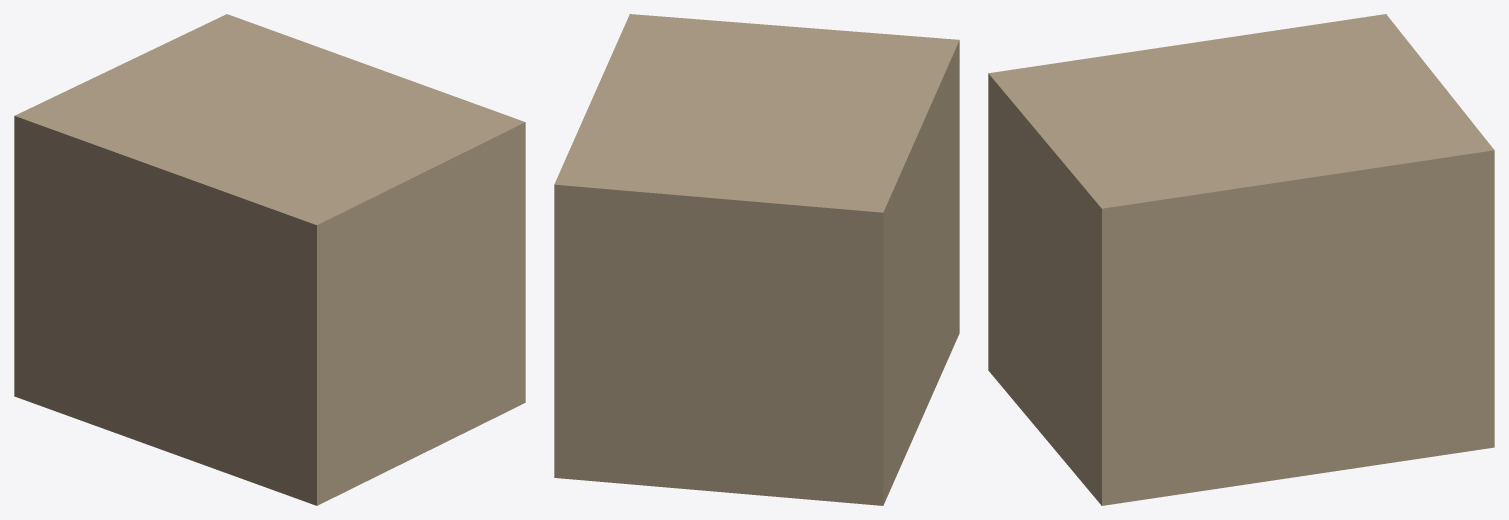
File: bld_100469620.dae
3 renders of one model, left to right at view 1: azimuth 30°, elevation 25°; view 2: azimuth 150°, elevation 25°; view 3: azimuth 270°, elevation 25°, orthographic. The views are drawn at different scales.
Visible parts, largest first — view 1: bld_100469620; view 2: bld_100469620; view 3: bld_100469620.
Boxes of the visible parts, x1,y1,x2,y2 form: bld_100469620: [14, 14, 525, 505]; bld_100469620: [554, 14, 959, 505]; bld_100469620: [988, 14, 1494, 505].
Bounding box in the file's own units: 11.24 × 12.35 × 8.
